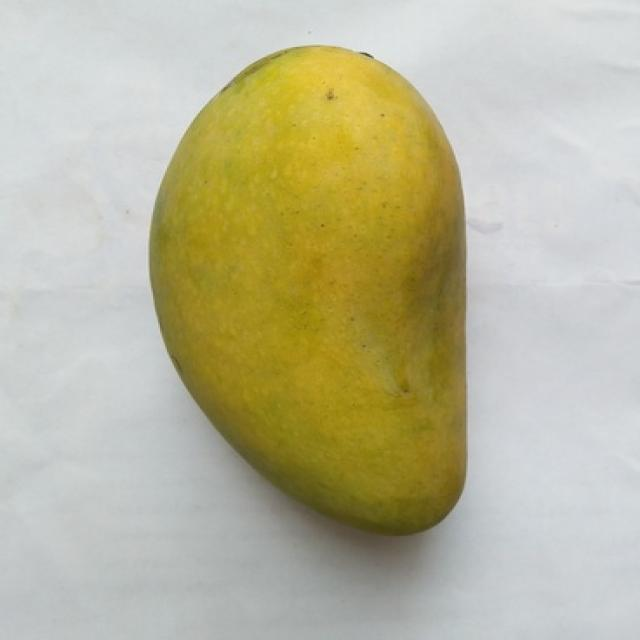Mango: (150, 47, 464, 533)
